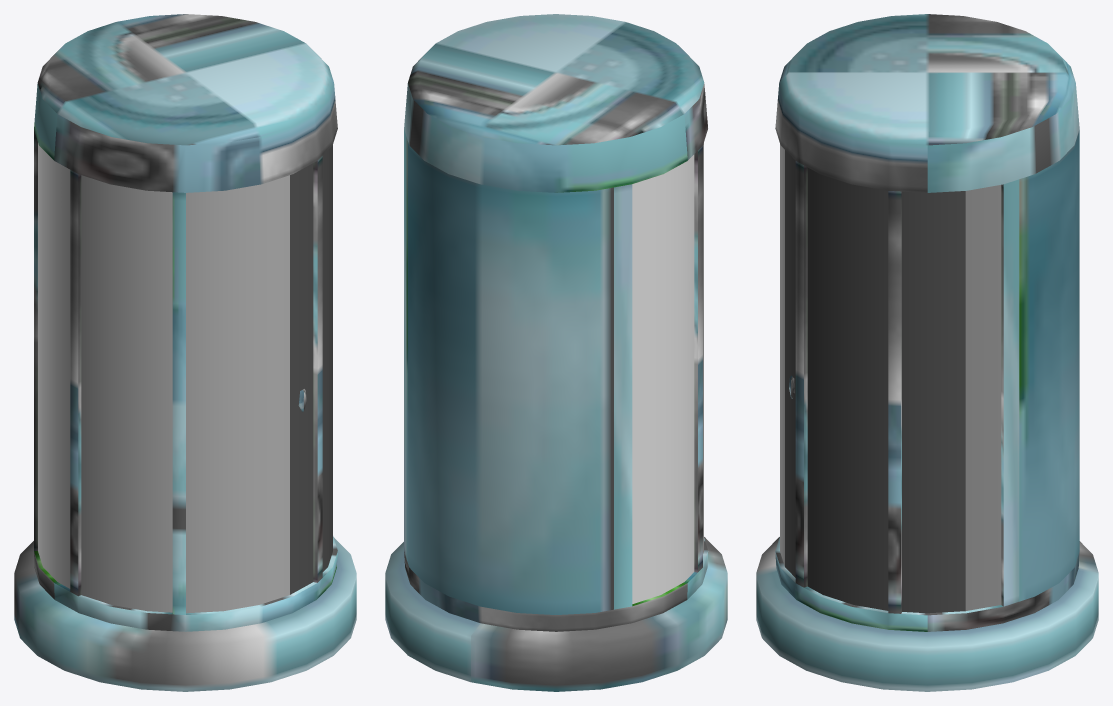
File: int_oth_shower_room.dae
3 views of the same model, side by side, from view 1: azimuth 30°, elevation 25°; view 2: azimuth 150°, elevation 25°; view 3: azimuth 270°, elevation 25° (orthographic).
Parts seen in each view (by area): view 1: int_oth_shower_room; view 2: int_oth_shower_room; view 3: int_oth_shower_room.
Boxes of the visible parts, left/top/right/bottom form: int_oth_shower_room: left=14, top=14, right=356, bottom=691; int_oth_shower_room: left=385, top=14, right=727, bottom=691; int_oth_shower_room: left=756, top=14, right=1098, bottom=691.
Size of the model in its own units: 43.31 by 76.31 by 43.31.
3 materials, 3 textured.
